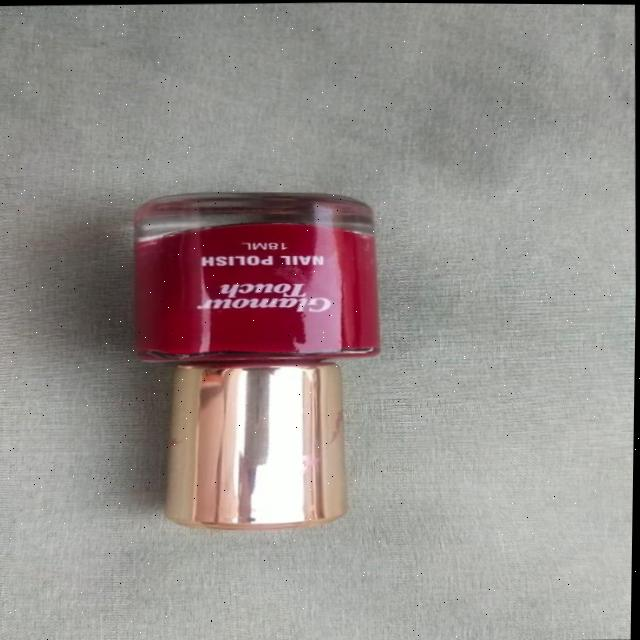nail polish: (44, 174, 414, 562)
